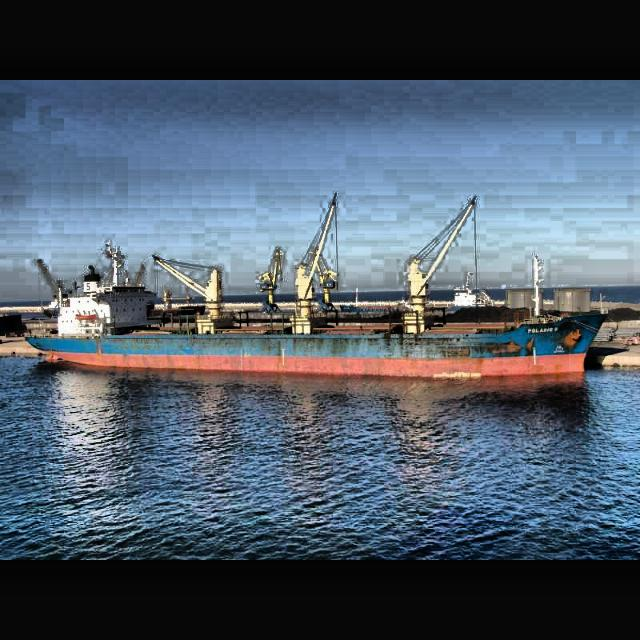bulk_carrier: (23, 197, 611, 379)
